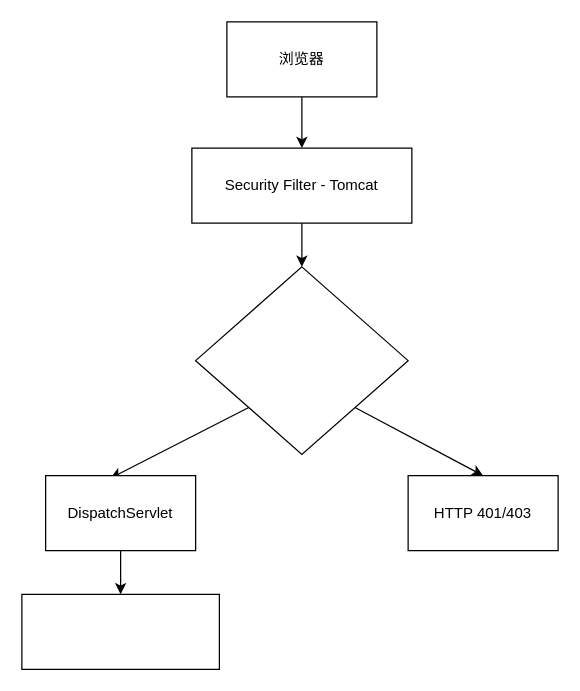
Some shapes in this 580 by 691 pixel diagram are drawn without their labels. Each missing label, with the centre of its shape:
"RestController,Controller" belongs at pixel 120 631.
"检查用户是否已认证" belongs at pixel 301 360.
